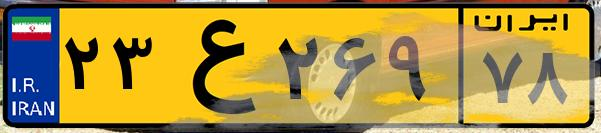2: (270, 28, 330, 110), (57, 26, 110, 100)
3: (110, 28, 158, 98)
6: (330, 28, 385, 110)
7: (475, 38, 525, 113)
8: (525, 38, 570, 115)
9: (385, 28, 445, 110)
ع: (158, 12, 270, 120)
